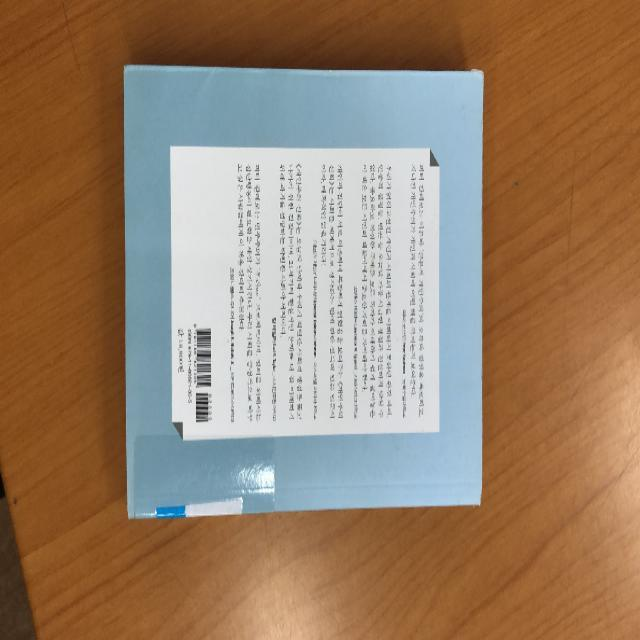Ripped: (465, 63, 489, 91)
Wornout: (120, 62, 134, 106), (471, 479, 489, 510)
